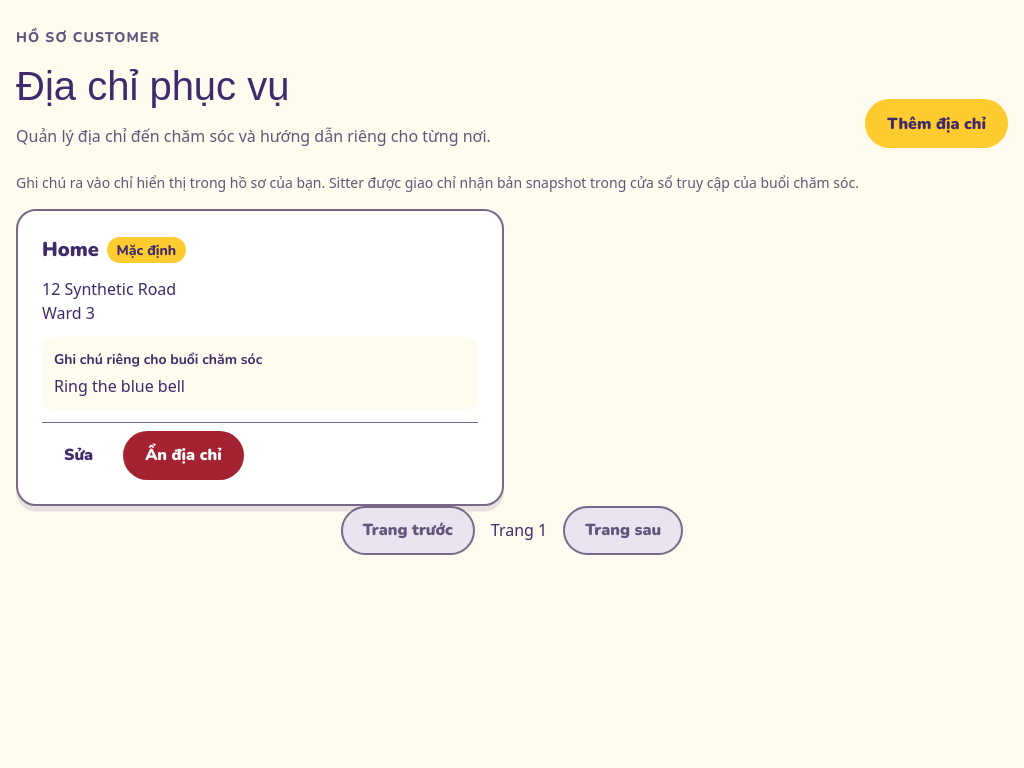
Scenario: asks before changing an address used by an open booking and retries with explicit confirmation
Click the button "Sửa" at (79, 455), box [42,431,115,480]
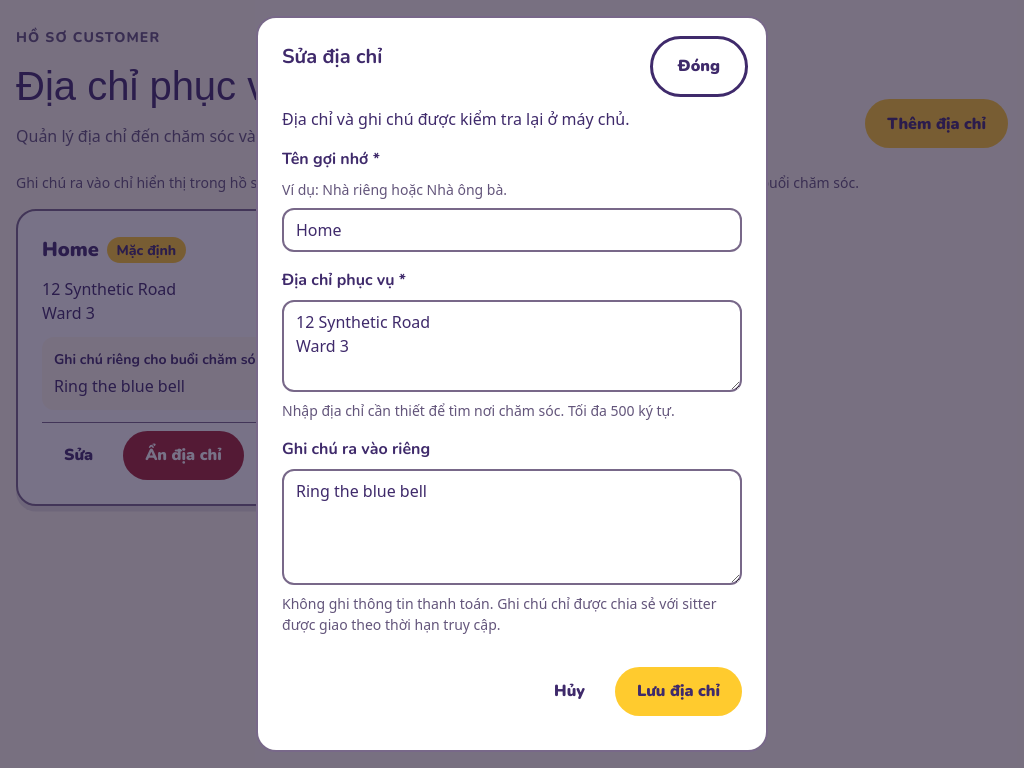
Replace the text in the text box labelled "Địa chỉ phục vụ *" with "28 Example Street" at (512, 346), box [282,300,742,392]
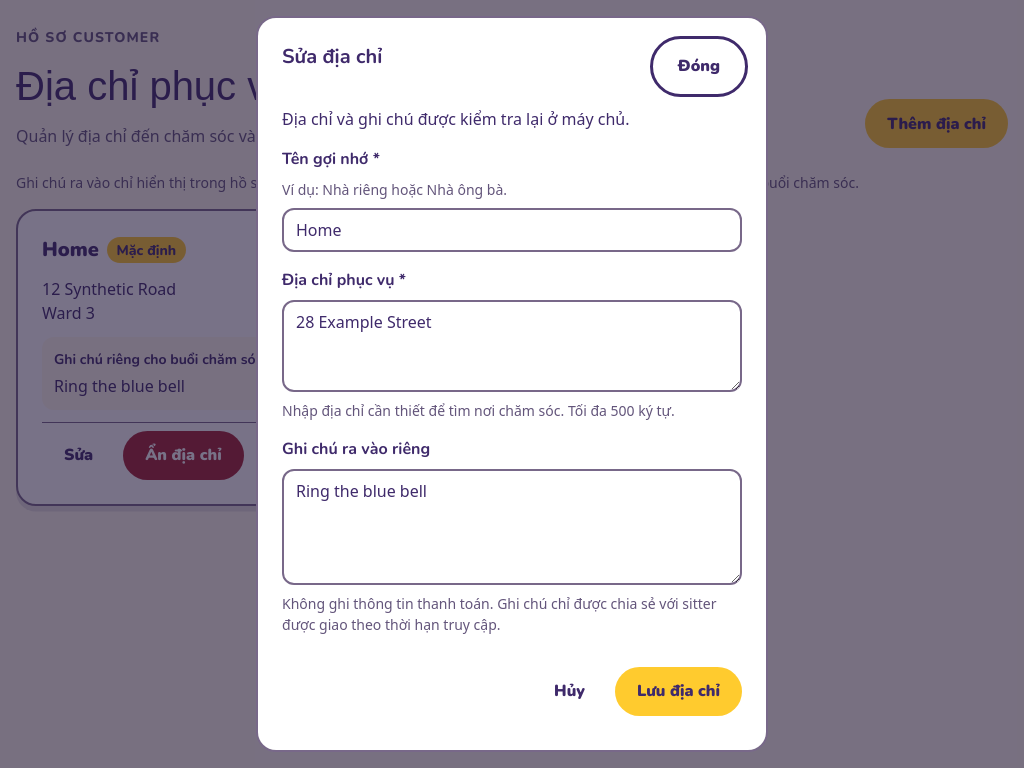
Click the button "Lưu địa chỉ" at (678, 691), box [615,667,742,716]
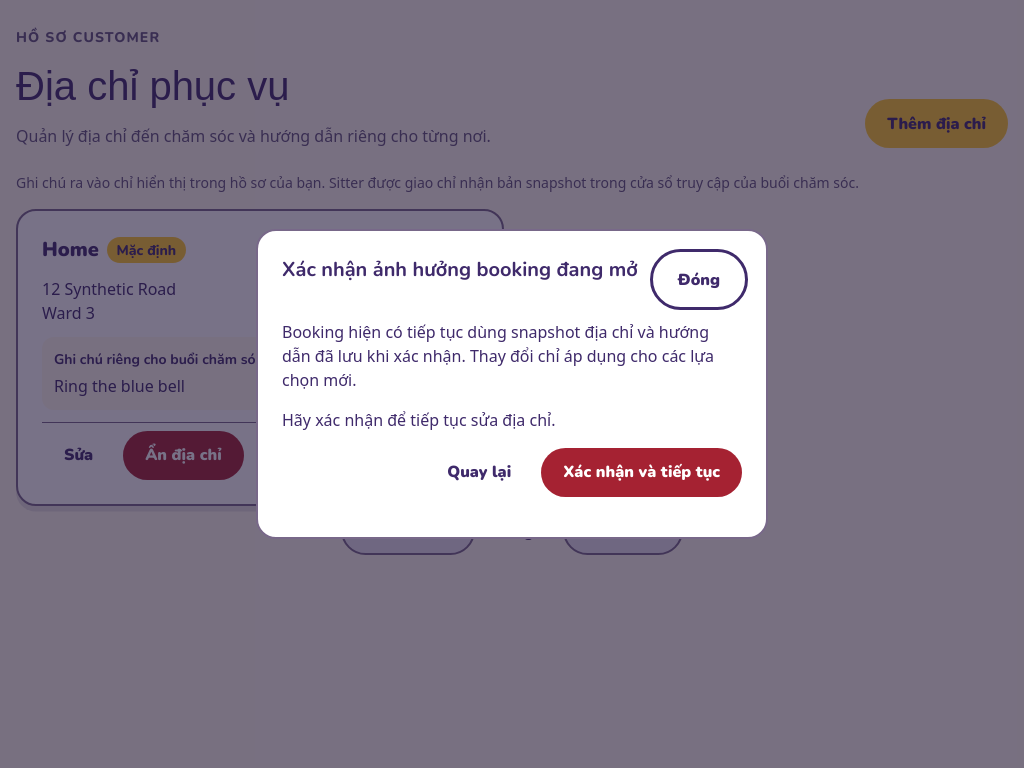
Check: the dialog "Xác nhận ảnh hưởng booking đang mở" is shown, box [256,229,768,539]
Check: the text "Booking hiện có tiếp tục dùng snapshot" is shown, box [282,321,714,391]
Click the button "Quay lại" at (479, 472), box [425,448,533,497]
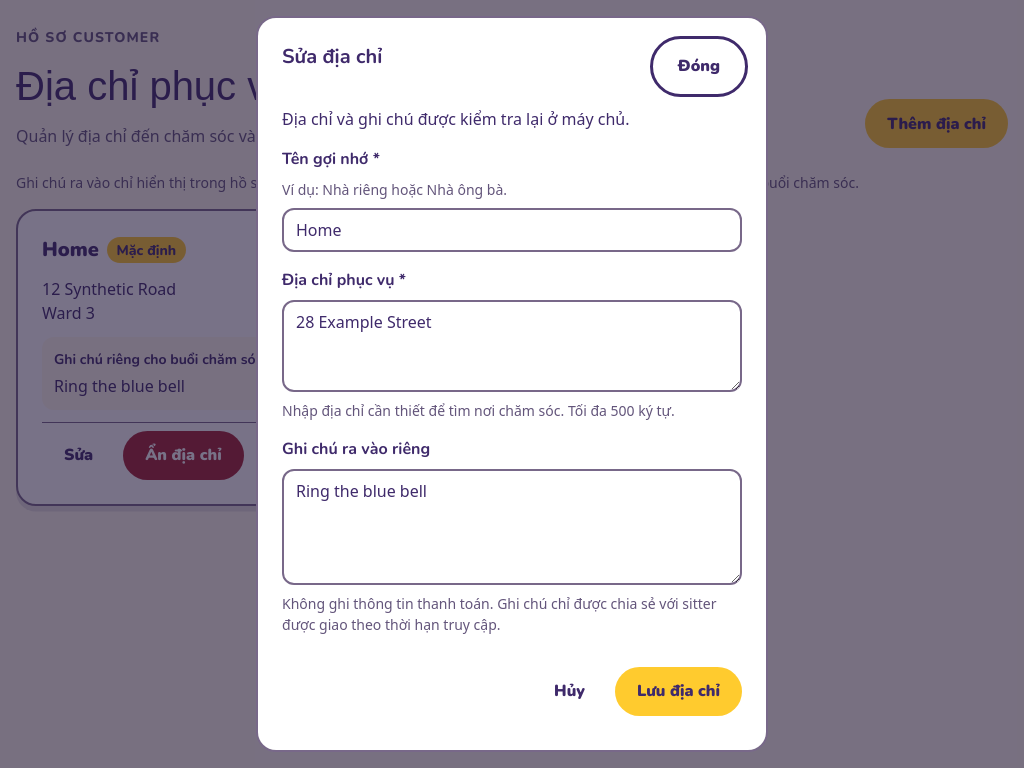
Click the button "Lưu địa chỉ" at (678, 691), box [615,667,742,716]
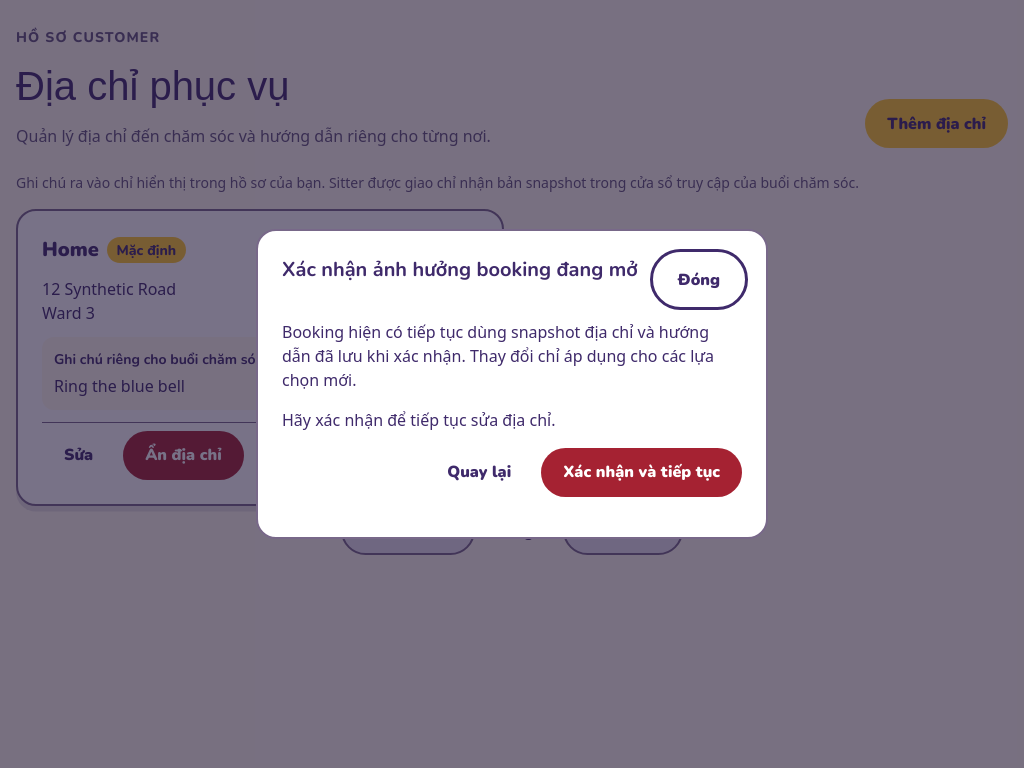
Check: the dialog "Xác nhận ảnh hưởng booking đang mở" is shown, box [256,229,768,539]
Click the button "Xác nhận và tiếp tục" at (642, 472), box [541,448,742,497]
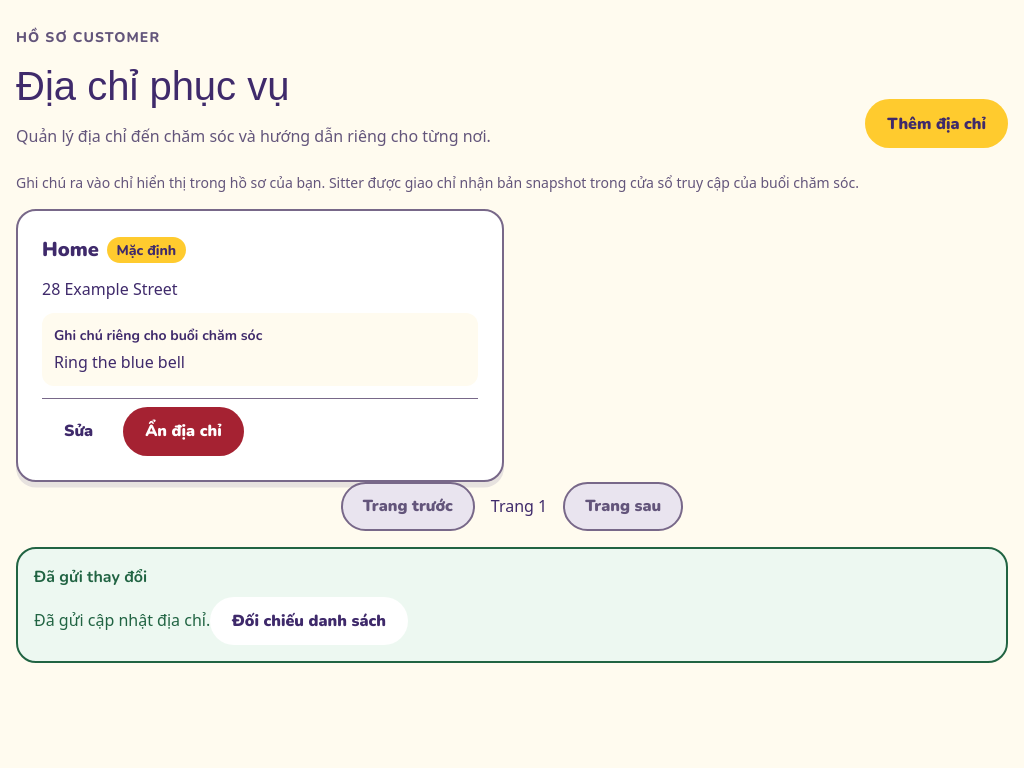
Check: the text with class "customer-address-location" reads "28 Example Street", box [42,278,178,300]
